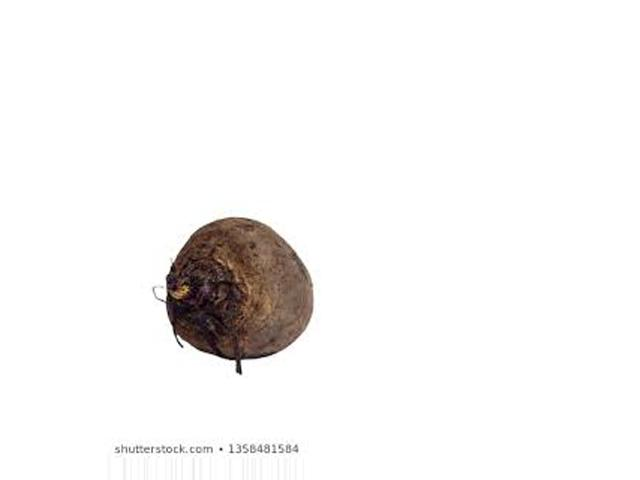beet: (168, 218, 315, 358)
